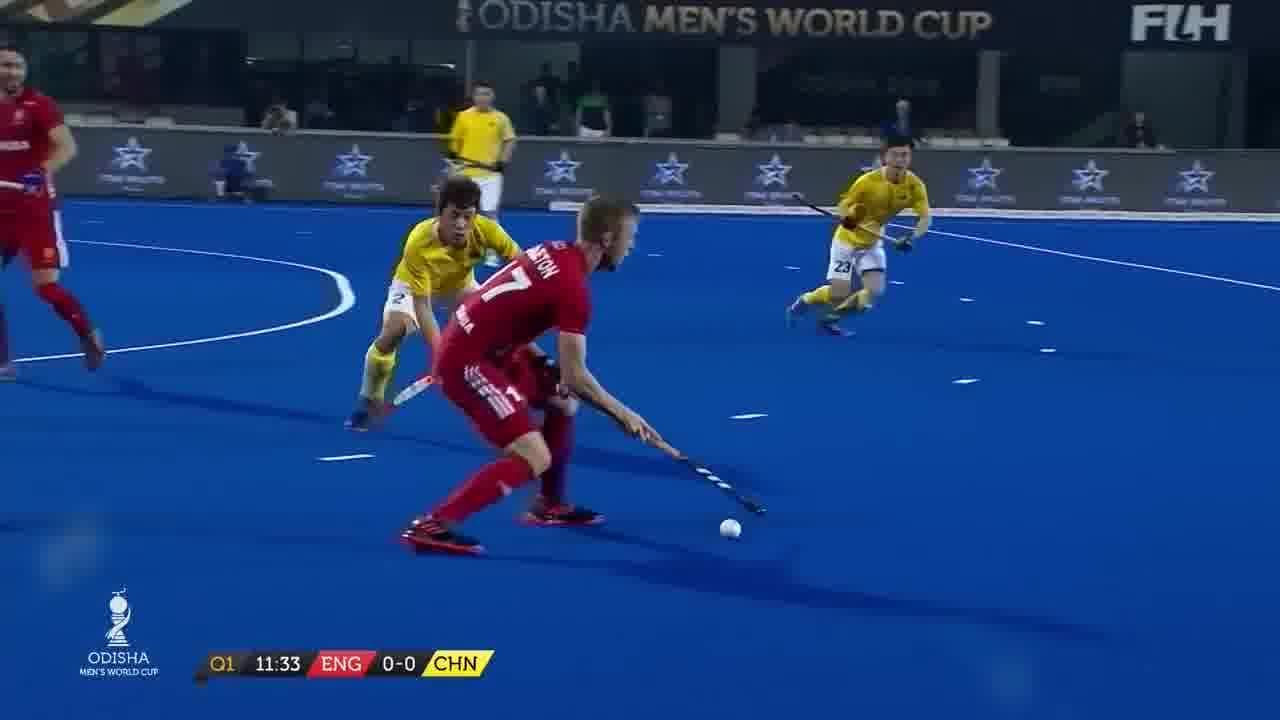ball: (716, 510, 754, 542)
